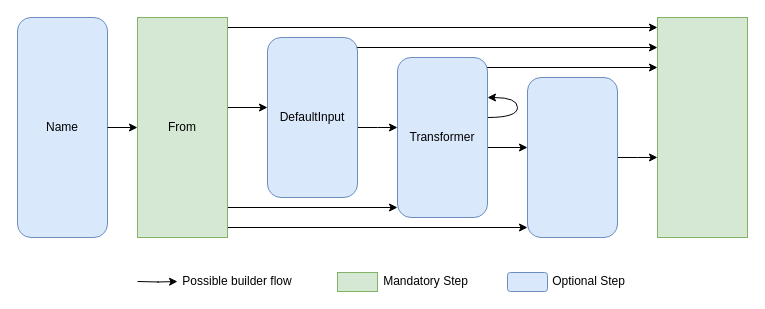
Some shapes in this 765 by 309 pixel diagram are drawn without their labels. The box of each missing label's shape, as (x1, y1, x2, y2) in pixels:
DefaultOutput: (526, 76, 618, 238)
To: (656, 16, 748, 238)
